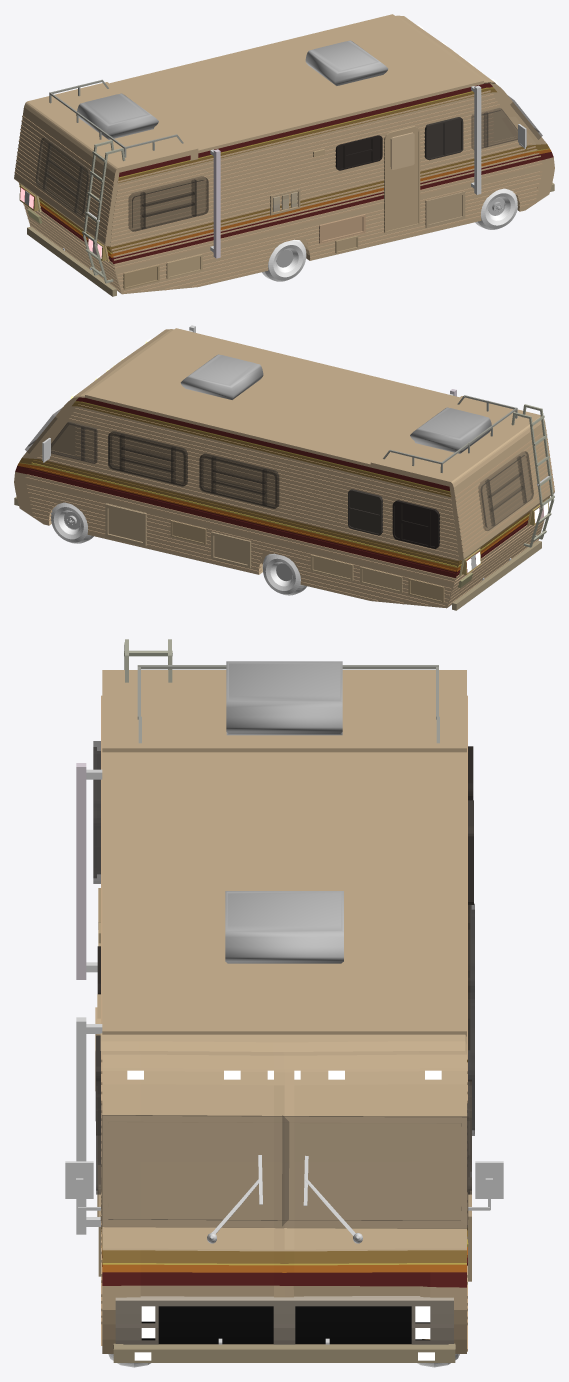
3 views of the same model, one above another, from view 1: azimuth 30°, elevation 25°; view 2: azimuth 150°, elevation 25°; view 3: azimuth 270°, elevation 25° (orthographic). The views are drawn at different scales.
Parts seen in each view (by area): view 1: Cube, Cube.069, Cube.022, Cube.046, Cube.018, Cube.024, Cube.002, Cube.001, Cube.047, Cube.020, Cube.035, Cube.021 (+12 smaller); view 2: Cube, Cube.049, Cube.058, Cube.057, Cube.046, Cube.024, Cube.002, Cube.001, Cube.060, Cube.047, Cube.056, Cube.066 (+11 smaller); view 3: Cube, Cube.067, Cube.001, Cube.002, Cube.048, Cube.068, Cube.003, Cube.004, Cube.054, Cube.086, Cube.090, Cube.022 (+1 smaller).
Part boxes in pixels (x1,y1,x2,y2): Cube: (14,14,554,294); Cube.069: (110,90,543,292); Cube.022: (128,176,208,231); Cube.046: (14,115,113,239); Cube.018: (384,126,420,232); Cube.024: (35,137,90,217); Cube.002: (305,40,388,85); Cube.001: (77,93,158,139); Cube.047: (19,183,121,292); Cube.020: (424,117,463,160); Cube.035: (82,140,125,283); Cube.021: (335,135,382,170); Cube: (14,328,554,608); Cube.049: (25,404,458,606); Cube.058: (199,453,279,508); Cube.057: (108,431,187,486); Cube.046: (455,429,554,553); Cube.024: (478,451,533,530); Cube.002: (180,354,263,399); Cube.001: (410,407,491,453); Cube.060: (392,500,439,548); Cube.047: (448,497,549,606); Cube.056: (51,422,97,463); Cube.066: (105,503,146,546); Cube: (100,670,466,1353); Cube.067: (101,1115,468,1230); Cube.001: (226,661,342,735); Cube.002: (225,891,343,963); Cube.048: (115,1296,453,1344); Cube.068: (113,1343,455,1362); Cube.003: (76,763,86,979); Cube.004: (76,1017,86,1234); Cube.054: (137,665,439,743); Cube.086: (468,1161,503,1210); Cube.090: (65,1161,100,1210); Cube.022: (93,741,100,883).
Size of what is drawn, in the model's own units: 5.22 by 1.91 by 2.16.
